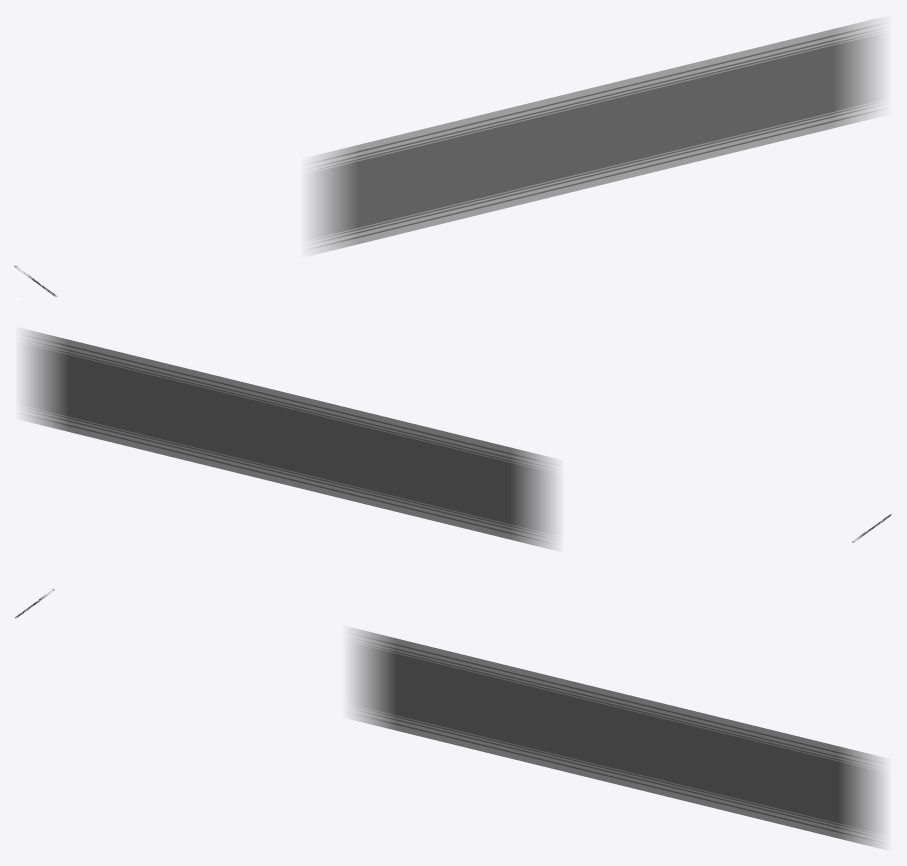
File: all_lose__lose.glb
The picture shows the model from 3 angles, top to bottom: view 1: azimuth 30°, elevation 25°; view 2: azimuth 150°, elevation 25°; view 3: azimuth 330°, elevation 25°; orthographic projection. The views are drawn at different scales.
Parts seen in each view (by area): view 1: polygon0; view 2: polygon0; view 3: polygon0.
Part boxes in pixels (x1,y1,x2,y2): polygon0: (308, 17, 883, 255); polygon0: (22, 329, 556, 550); polygon0: (350, 628, 884, 848).
Bounding box in the file's own units: 75.1 × 8 × 8.06.
4 materials, 4 textured.
